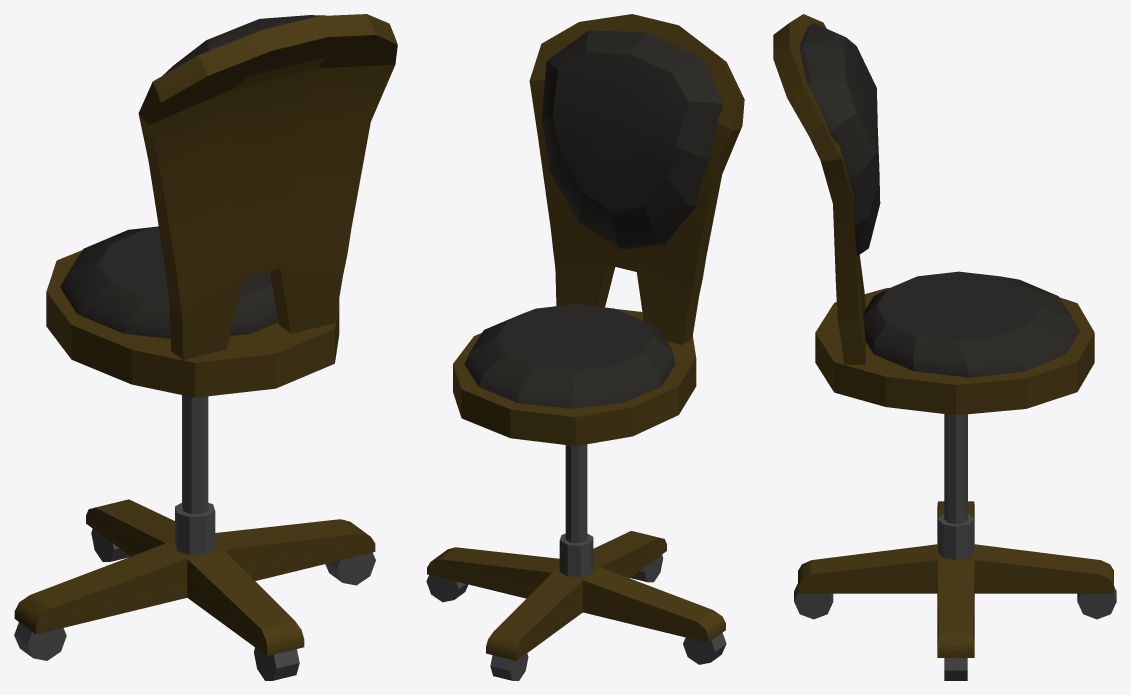
The model's file is DD_6_teacherChair_HENRY.fbx.
The picture shows the model from 3 angles, left to right: view 1: azimuth 30°, elevation 25°; view 2: azimuth 150°, elevation 25°; view 3: azimuth 270°, elevation 25°; orthographic projection. The views are drawn at different scales.
Visible parts, largest first — view 1: chairBack, woodLegs, cushions, pole, wheels; view 2: cushions, chairBack, woodLegs, pole, wheels; view 3: cushions, chairBack, woodLegs, pole, wheels.
Boxes of the visible parts, x1,y1,x2,y2 form: chairBack: (46, 14, 397, 397); woodLegs: (14, 499, 375, 656); cushions: (60, 15, 325, 338); pole: (175, 395, 215, 555); wheels: (14, 528, 375, 680); cushions: (464, 30, 723, 408); chairBack: (453, 14, 744, 446); woodLegs: (427, 531, 725, 660); pole: (559, 444, 593, 577); wheels: (426, 554, 726, 680); cushions: (799, 23, 1080, 377); chairBack: (773, 14, 1094, 415); woodLegs: (798, 501, 1113, 657); pole: (938, 414, 974, 559); wheels: (794, 583, 1116, 680).
Size of the model in its own units: 3.93 by 7.16 by 3.84.
